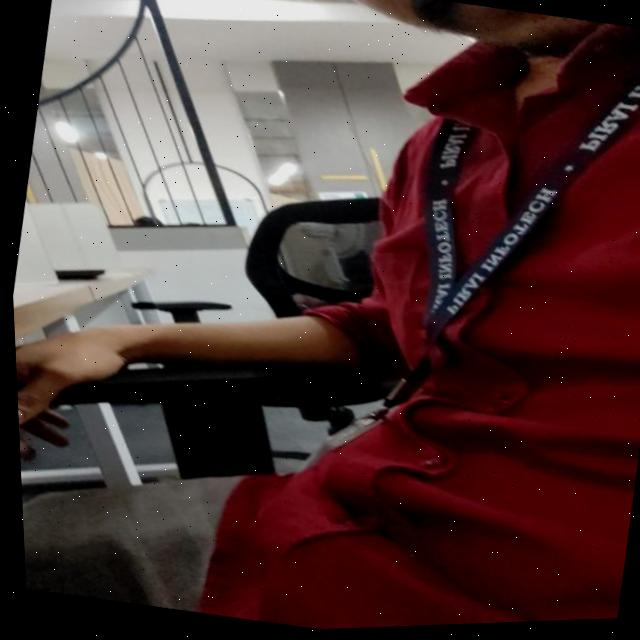id_card: (276, 0, 640, 523)
